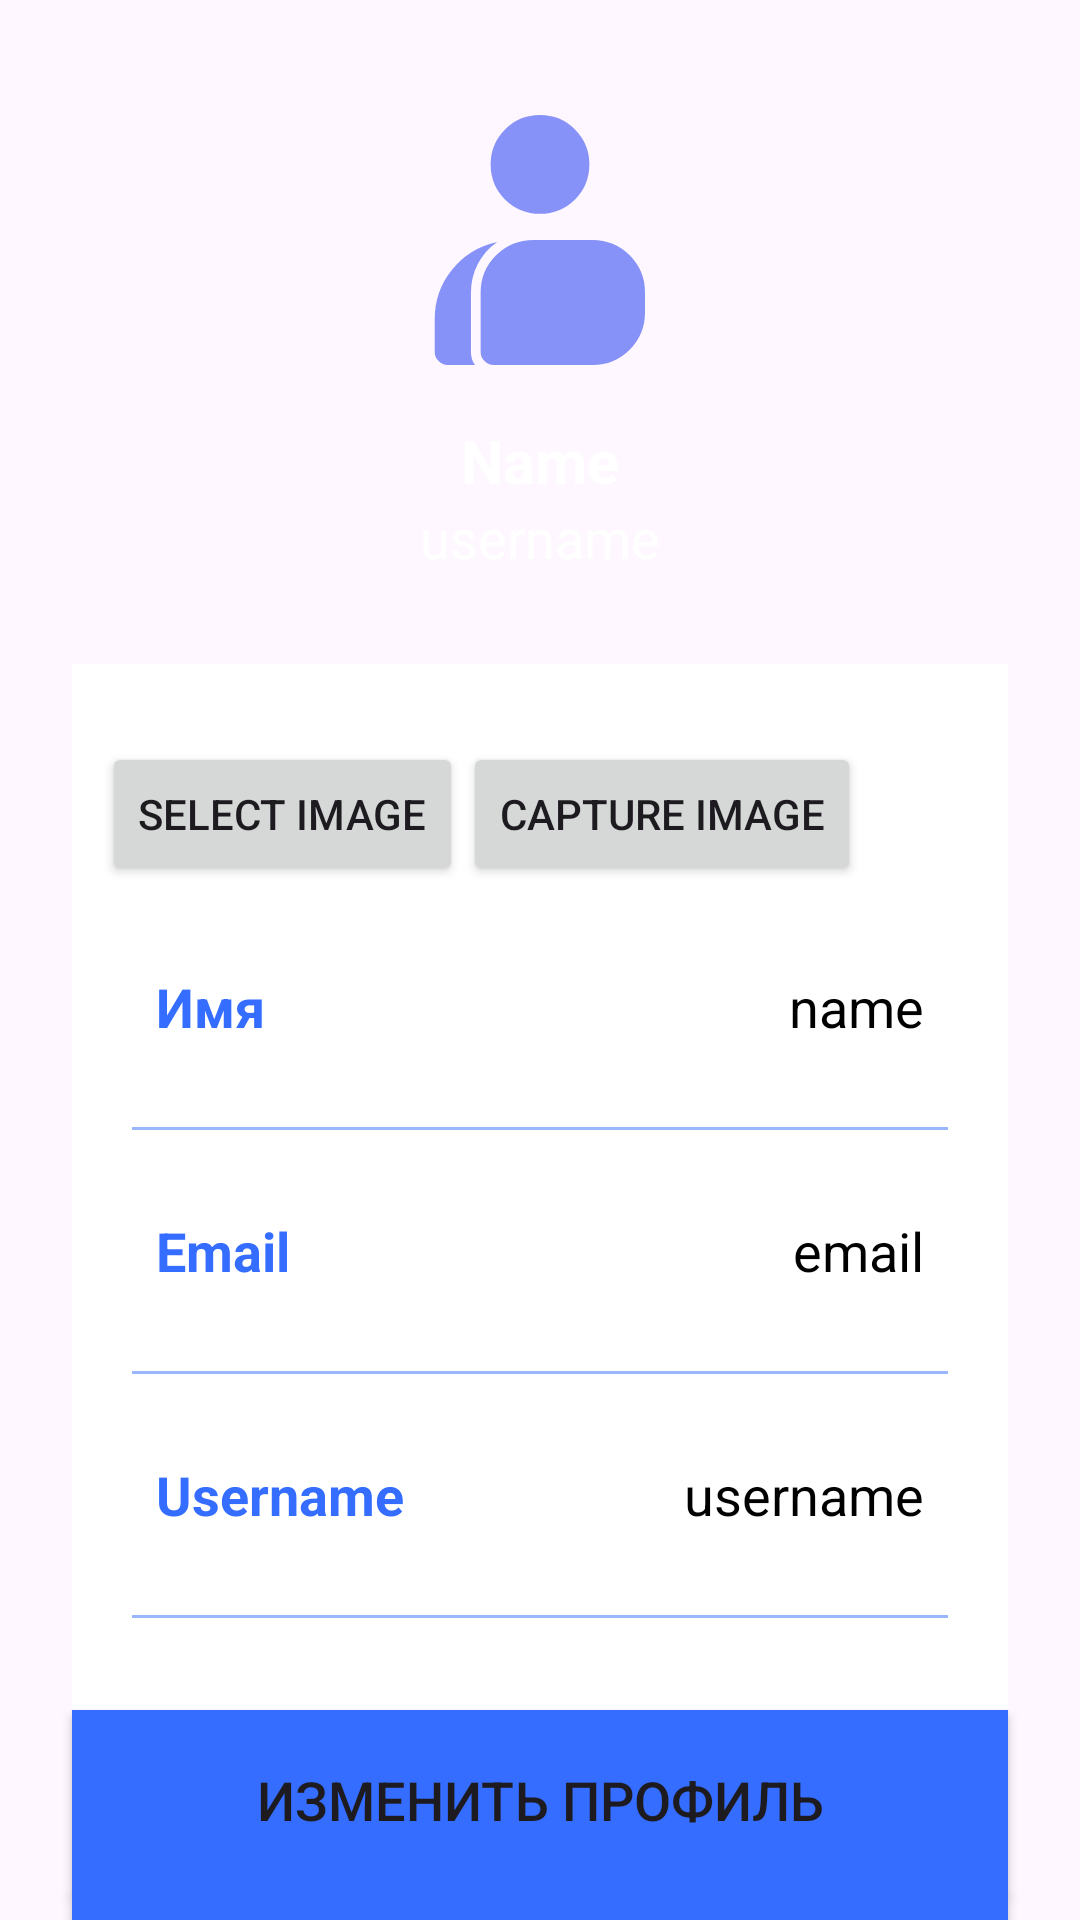

Named icons in this screenshot (1080px×1920px) and their bounding boxes, box(x1, y1, x2, y2):
Profile Image: box(434, 115, 645, 365)
